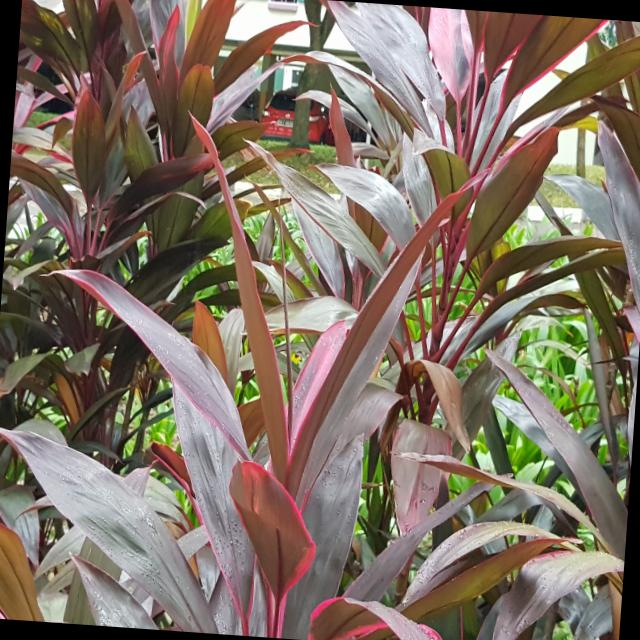Ti: (38, 97, 594, 640)
